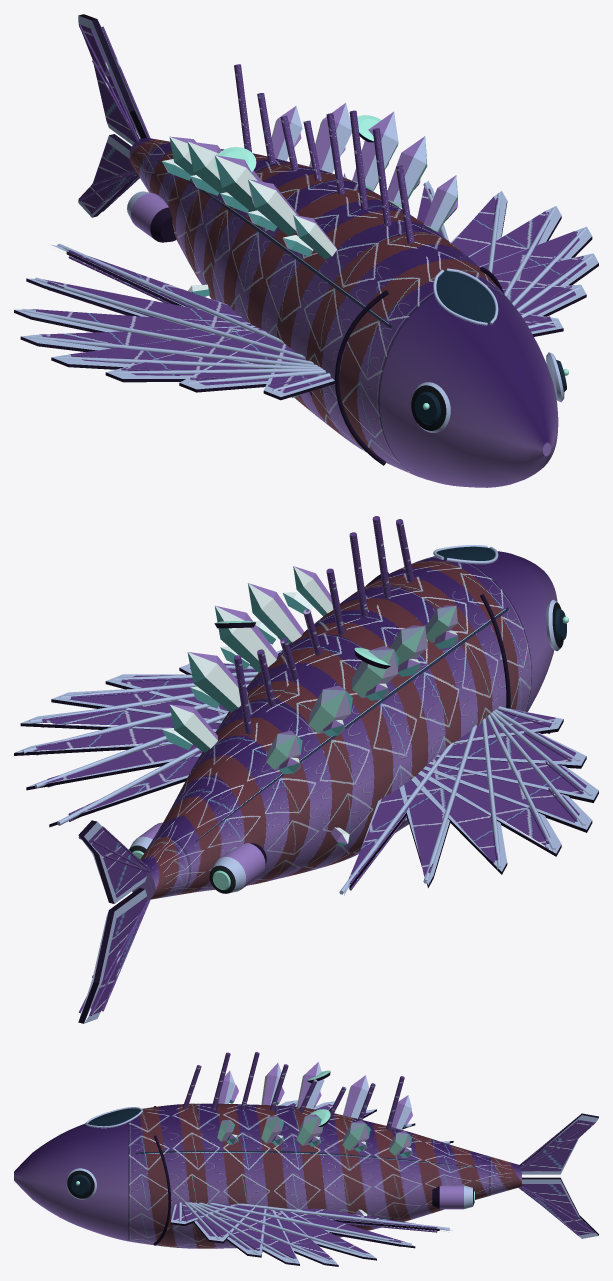
3 renders of one model, top to bottom at view 1: azimuth 30°, elevation 25°; view 2: azimuth 150°, elevation 25°; view 3: azimuth 270°, elevation 25°, orthographic. The views are drawn at different scales.
Parts seen in each view (by area): view 1: lionfish_hull; view 2: lionfish_hull; view 3: lionfish_hull.
Boxes of the visible parts, x1,y1,x2,y2 form: lionfish_hull: [14, 14, 598, 487]; lionfish_hull: [14, 516, 598, 1023]; lionfish_hull: [14, 1052, 598, 1266].
Size of the model in its own units: 25.23 by 13.71 by 38.
Materials: 1 (1 with a texture image).
